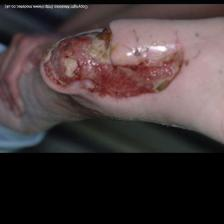Wound: (46, 31, 195, 100)
